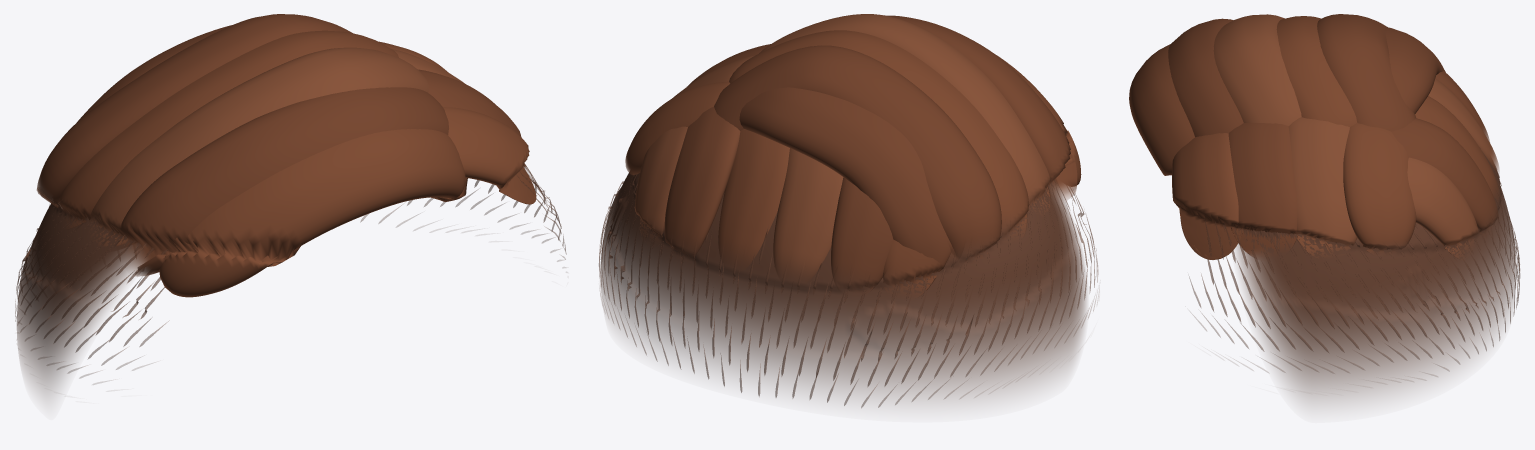
Rendered from Masculine-taper-headband259-hair.glb.
3 views of the same model, side by side, from view 1: azimuth 30°, elevation 25°; view 2: azimuth 150°, elevation 25°; view 3: azimuth 270°, elevation 25° (orthographic). The views are drawn at different scales.
Visible parts, largest first — view 1: 226 hair / Hair258 / sculpted side sweep 1, 226 hair / Hair258 / sculpted side sweep 0, 226 hair / Hair258 / sculpted side sweep 2, 226 hair / Hair258 / smooth side fade, 226 hair / Hair259 / directional fade marks214; view 2: 226 hair / Hair258 / smooth side fade, 226 hair / Hair258 / sculpted side sweep 0, 226 hair / Hair258 / sculpted side sweep 1, 226 hair / Hair258 / sculpted side sweep 2, 226 hair / Hair259 / directional fade marks214; view 3: 226 hair / Hair258 / smooth side fade, 226 hair / Hair258 / sculpted side sweep 0, 226 hair / Hair258 / sculpted side sweep 1, 226 hair / Hair258 / sculpted side sweep 2, 226 hair / Hair259 / directional fade marks214.
Part boxes in pixels (<box>): 226 hair / Hair258 / sculpted side sweep 1: <box>57,30,536,297</box>; 226 hair / Hair258 / sculpted side sweep 0: <box>36,14,525,276</box>; 226 hair / Hair258 / sculpted side sweep 2: <box>89,47,464,247</box>; 226 hair / Hair258 / smooth side fade: <box>17,163,546,397</box>; 226 hair / Hair259 / directional fade marks214: <box>15,165,566,384</box>; 226 hair / Hair258 / smooth side fade: <box>600,171,1086,402</box>; 226 hair / Hair258 / sculpted side sweep 0: <box>664,15,1077,293</box>; 226 hair / Hair258 / sculpted side sweep 1: <box>625,30,1081,297</box>; 226 hair / Hair258 / sculpted side sweep 2: <box>634,14,1050,283</box>; 226 hair / Hair259 / directional fade marks214: <box>599,173,1099,407</box>; 226 hair / Hair258 / smooth side fade: <box>1236,151,1516,403</box>; 226 hair / Hair258 / sculpted side sweep 0: <box>1168,14,1498,259</box>; 226 hair / Hair258 / sculpted side sweep 1: <box>1129,16,1499,259</box>; 226 hair / Hair258 / sculpted side sweep 2: <box>1213,14,1499,259</box>; 226 hair / Hair259 / directional fade marks214: <box>1189,148,1520,380</box>.
Bounding box in the file's own units: 0.9743 × 0.6474 × 0.7585.
